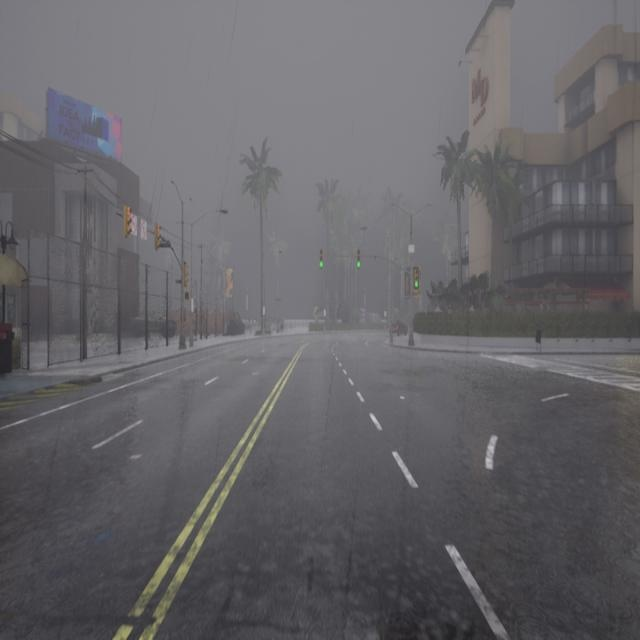bien_chi_dan: (156, 222, 162, 250), (125, 205, 130, 234), (414, 266, 419, 290), (184, 262, 189, 285), (319, 247, 324, 270), (356, 248, 361, 271), (318, 260, 324, 268), (357, 260, 361, 269), (414, 280, 418, 288), (126, 210, 130, 217), (157, 227, 160, 232), (185, 266, 188, 271)
